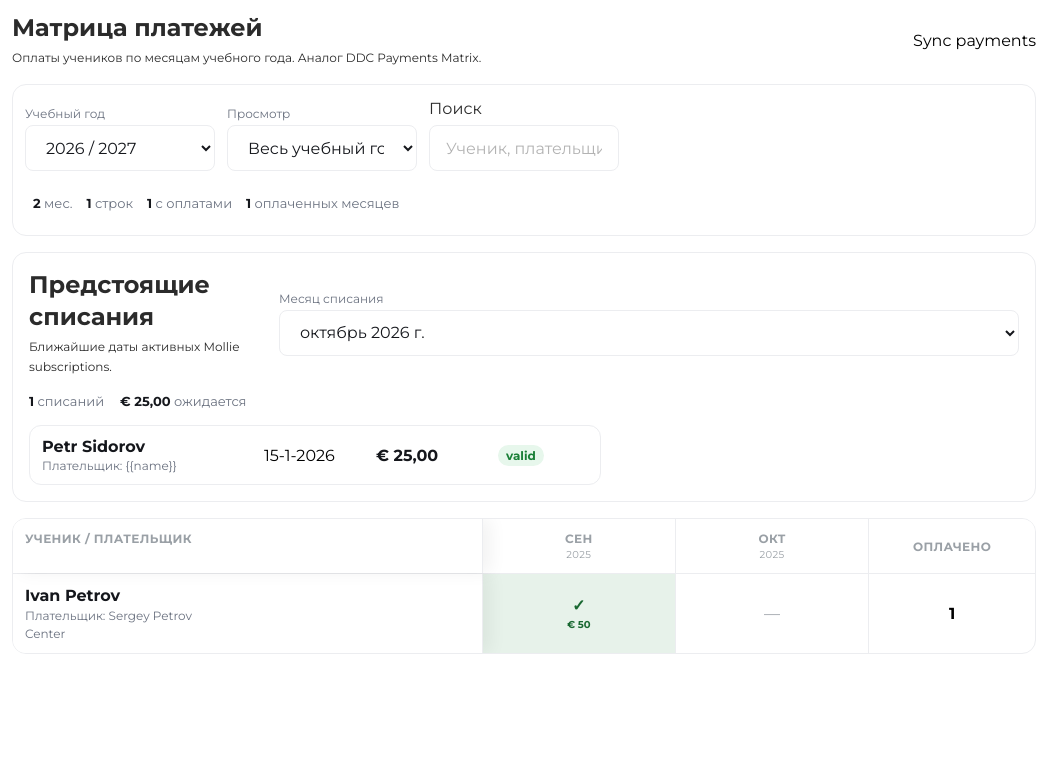
Scenario: MolliePaymentsMatrix › filters rows by the search input
Expected: the link "Ivan Petrov" is shown, [25,586,120,605]
In the field with placeholder "Ученик, плательщик или филиал": (524, 148) [446,138,602,158], type "no-match"
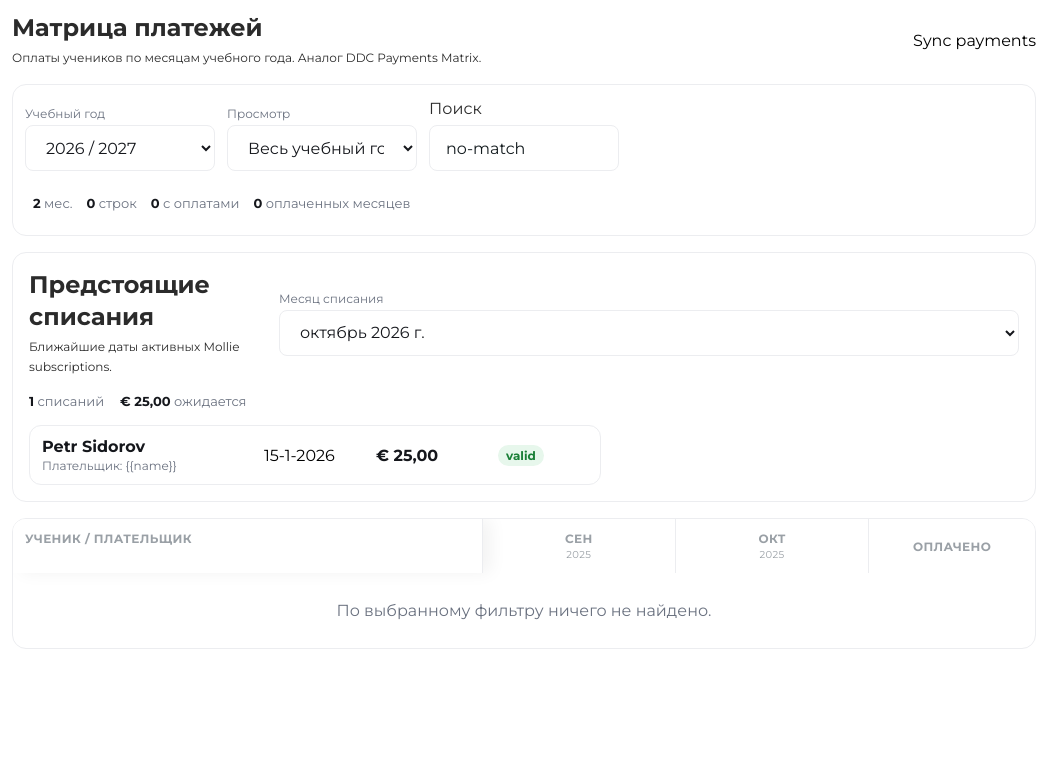
Now the link "Ivan Petrov" is gone
Now the text "По выбранному фильтру ничего не найдено." is shown, box [336,601,712,620]
